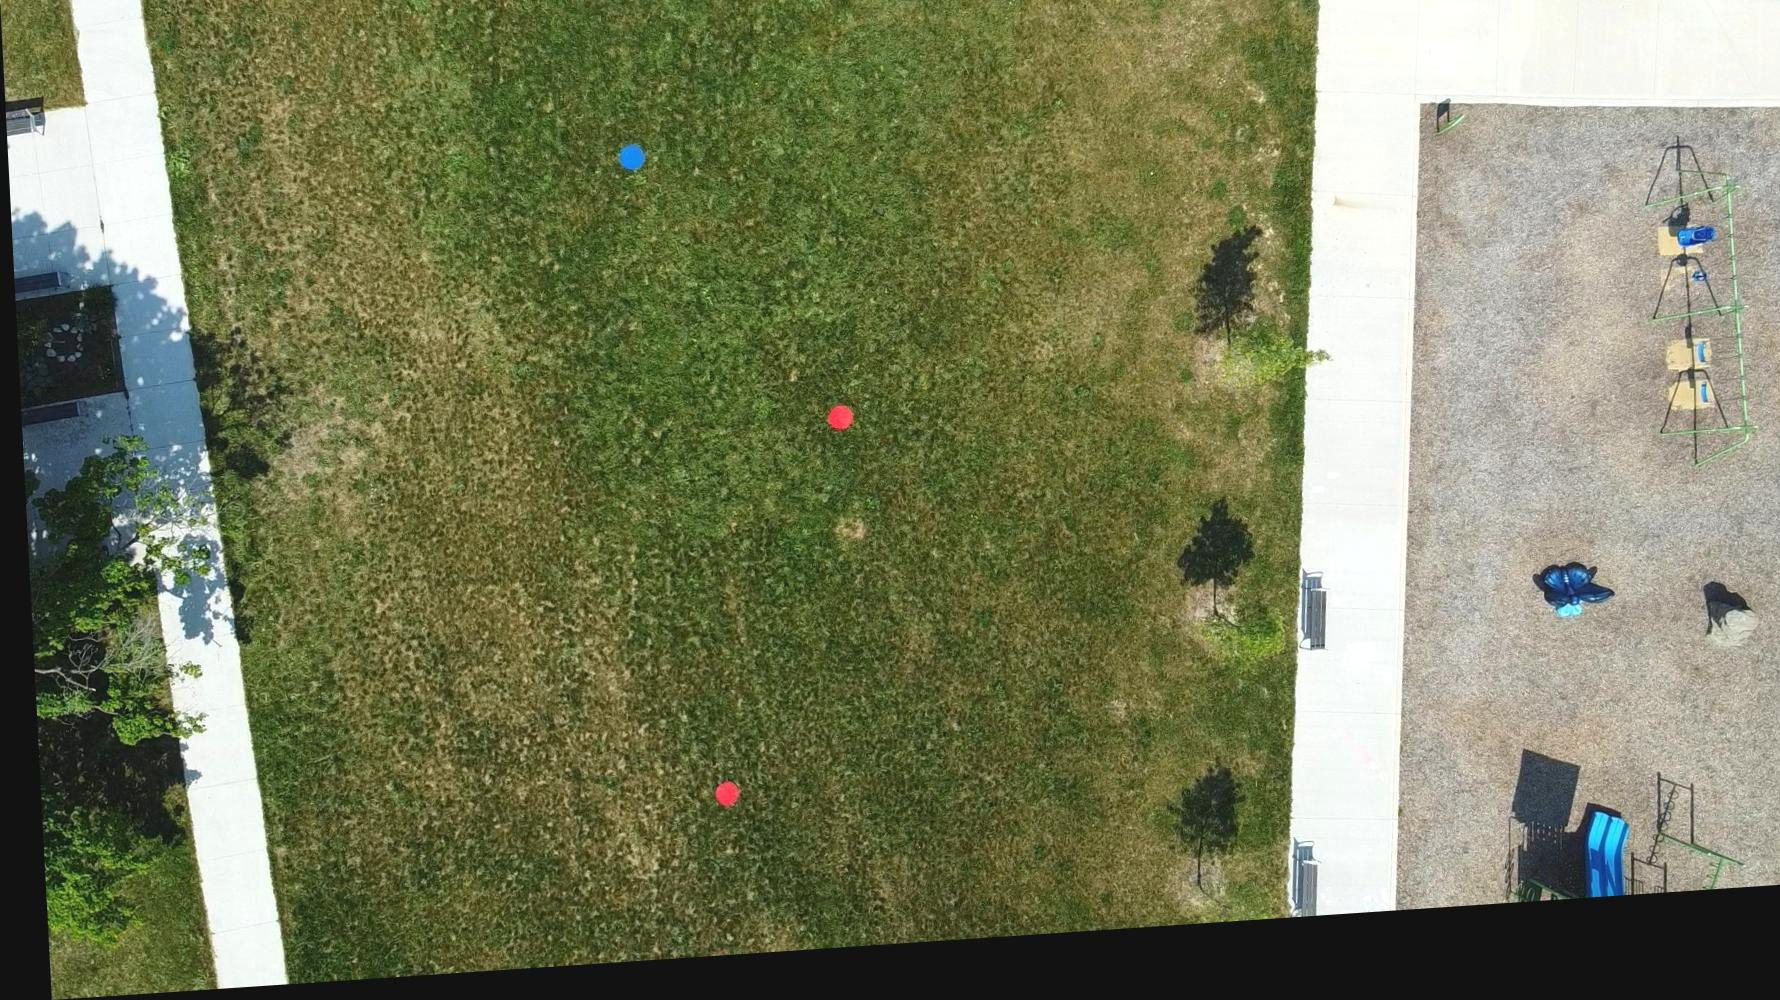Blue: (615, 152, 644, 180)
Red: (822, 416, 850, 443), (704, 791, 731, 818)
